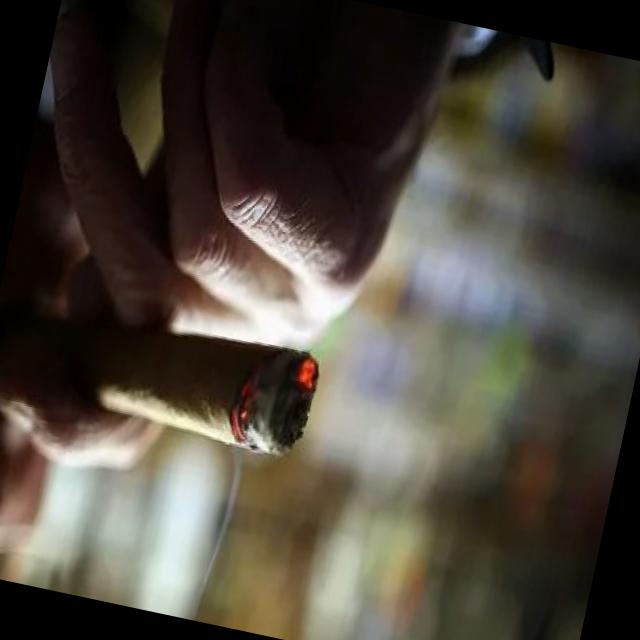smoke: (0, 278, 327, 471)
